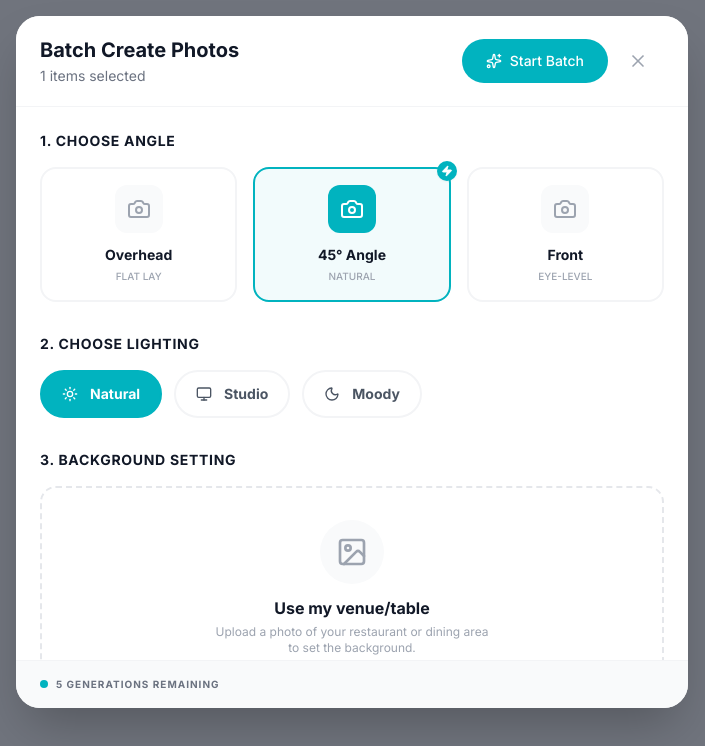
BatchPhotoModal › switches to the submitted progress state after starting a batch
Click the button "Start Batch".
click(535, 61)  # box [462,39,608,83]
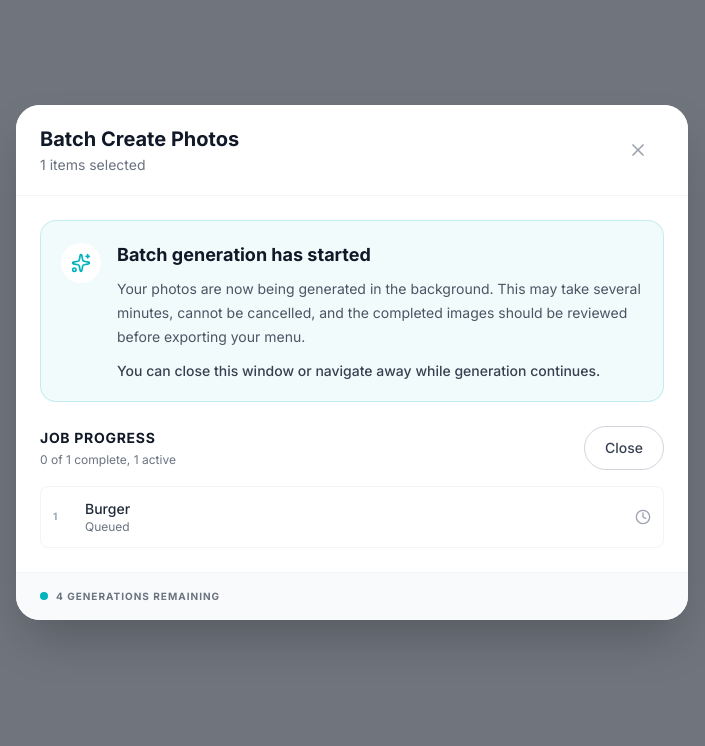
Check: the heading "Batch generation has started" is shown, box [117,244,371,264]
Check: the text "generated in the background" is shown, box [117,280,641,344]
Check: the heading "Job progress" is shown, box [40,428,176,448]
